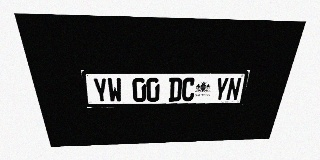0: (132, 78, 146, 102), (146, 78, 160, 102)
C: (181, 78, 196, 101)
D: (168, 78, 182, 102)
N: (226, 77, 242, 101)
W: (107, 78, 123, 103)
Y: (92, 78, 109, 103), (213, 77, 229, 101)
